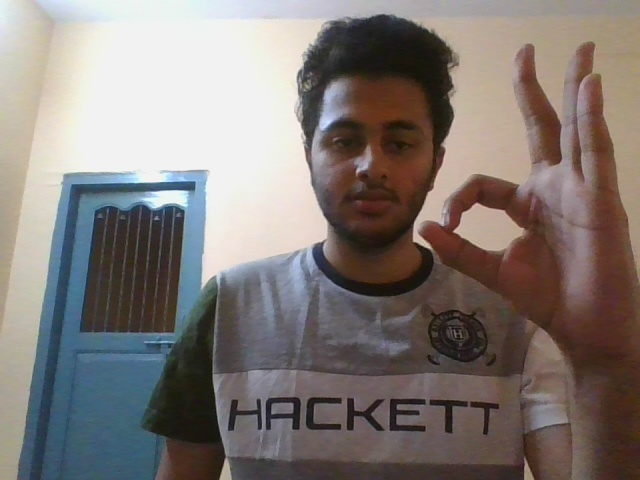Ok: (410, 37, 639, 348)
